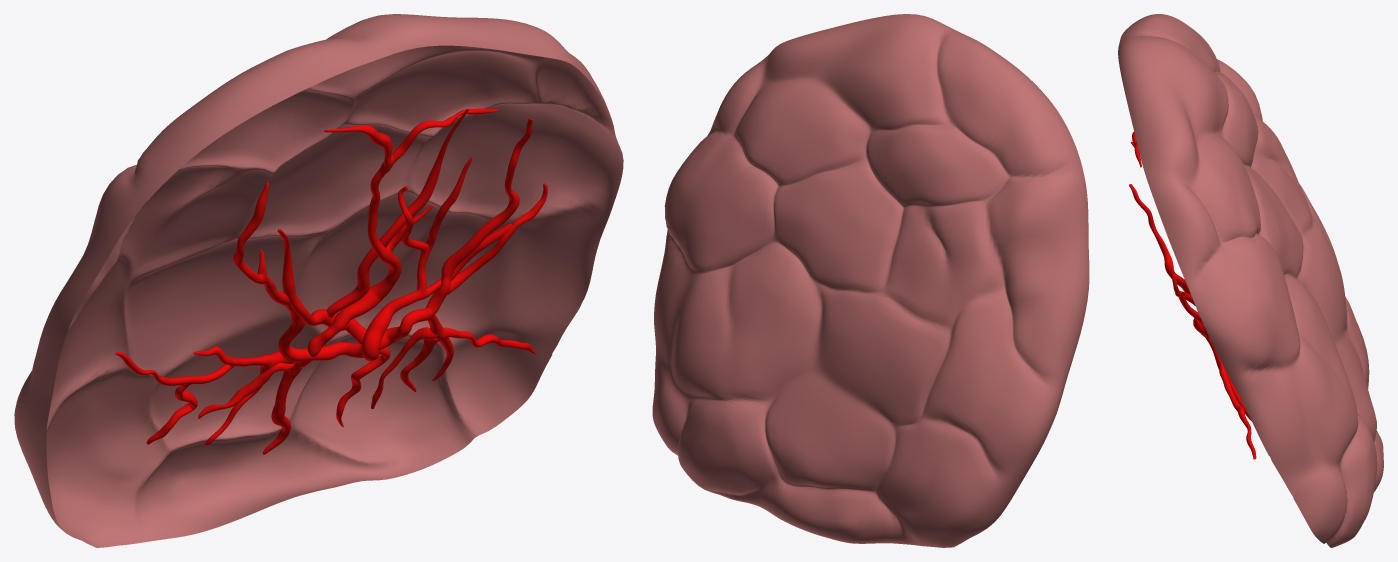
The model's file is 3d-vh-f-placenta-landmark.fbx.
3 views of the same model, side by side, from view 1: azimuth 30°, elevation 25°; view 2: azimuth 150°, elevation 25°; view 3: azimuth 270°, elevation 25° (orthographic). The views are drawn at different scales.
Visible parts, largest first — view 1: VH_F_placenta_landmark_basal_plate, VH_F_placenta_landmark_placenta_vessels; view 2: VH_F_placenta_landmark_basal_plate; view 3: VH_F_placenta_landmark_basal_plate, VH_F_placenta_landmark_placenta_vessels.
Part boxes in pixels (<box>): VH_F_placenta_landmark_basal_plate: <box>14,14,623,547</box>; VH_F_placenta_landmark_placenta_vessels: <box>115,108,547,454</box>; VH_F_placenta_landmark_basal_plate: <box>652,14,1089,547</box>; VH_F_placenta_landmark_basal_plate: <box>1118,14,1383,547</box>; VH_F_placenta_landmark_placenta_vessels: <box>1129,131,1256,459</box>.
Bounding box in the file's own units: 19.77 × 20.01 × 10.6.
